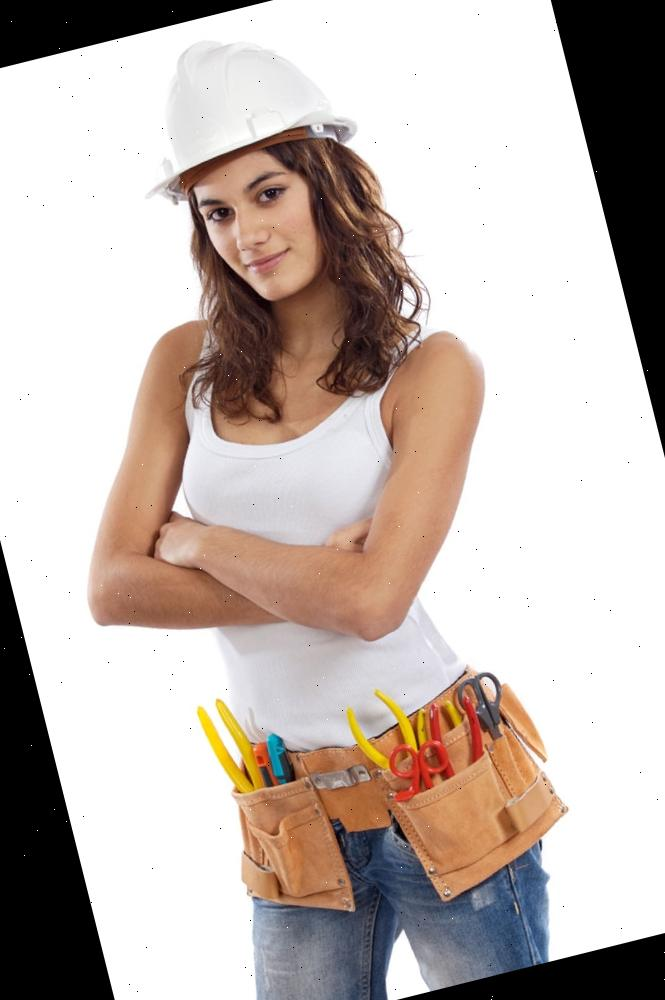helmet: (108, 6, 358, 208)
no_wear: (88, 276, 494, 779)
